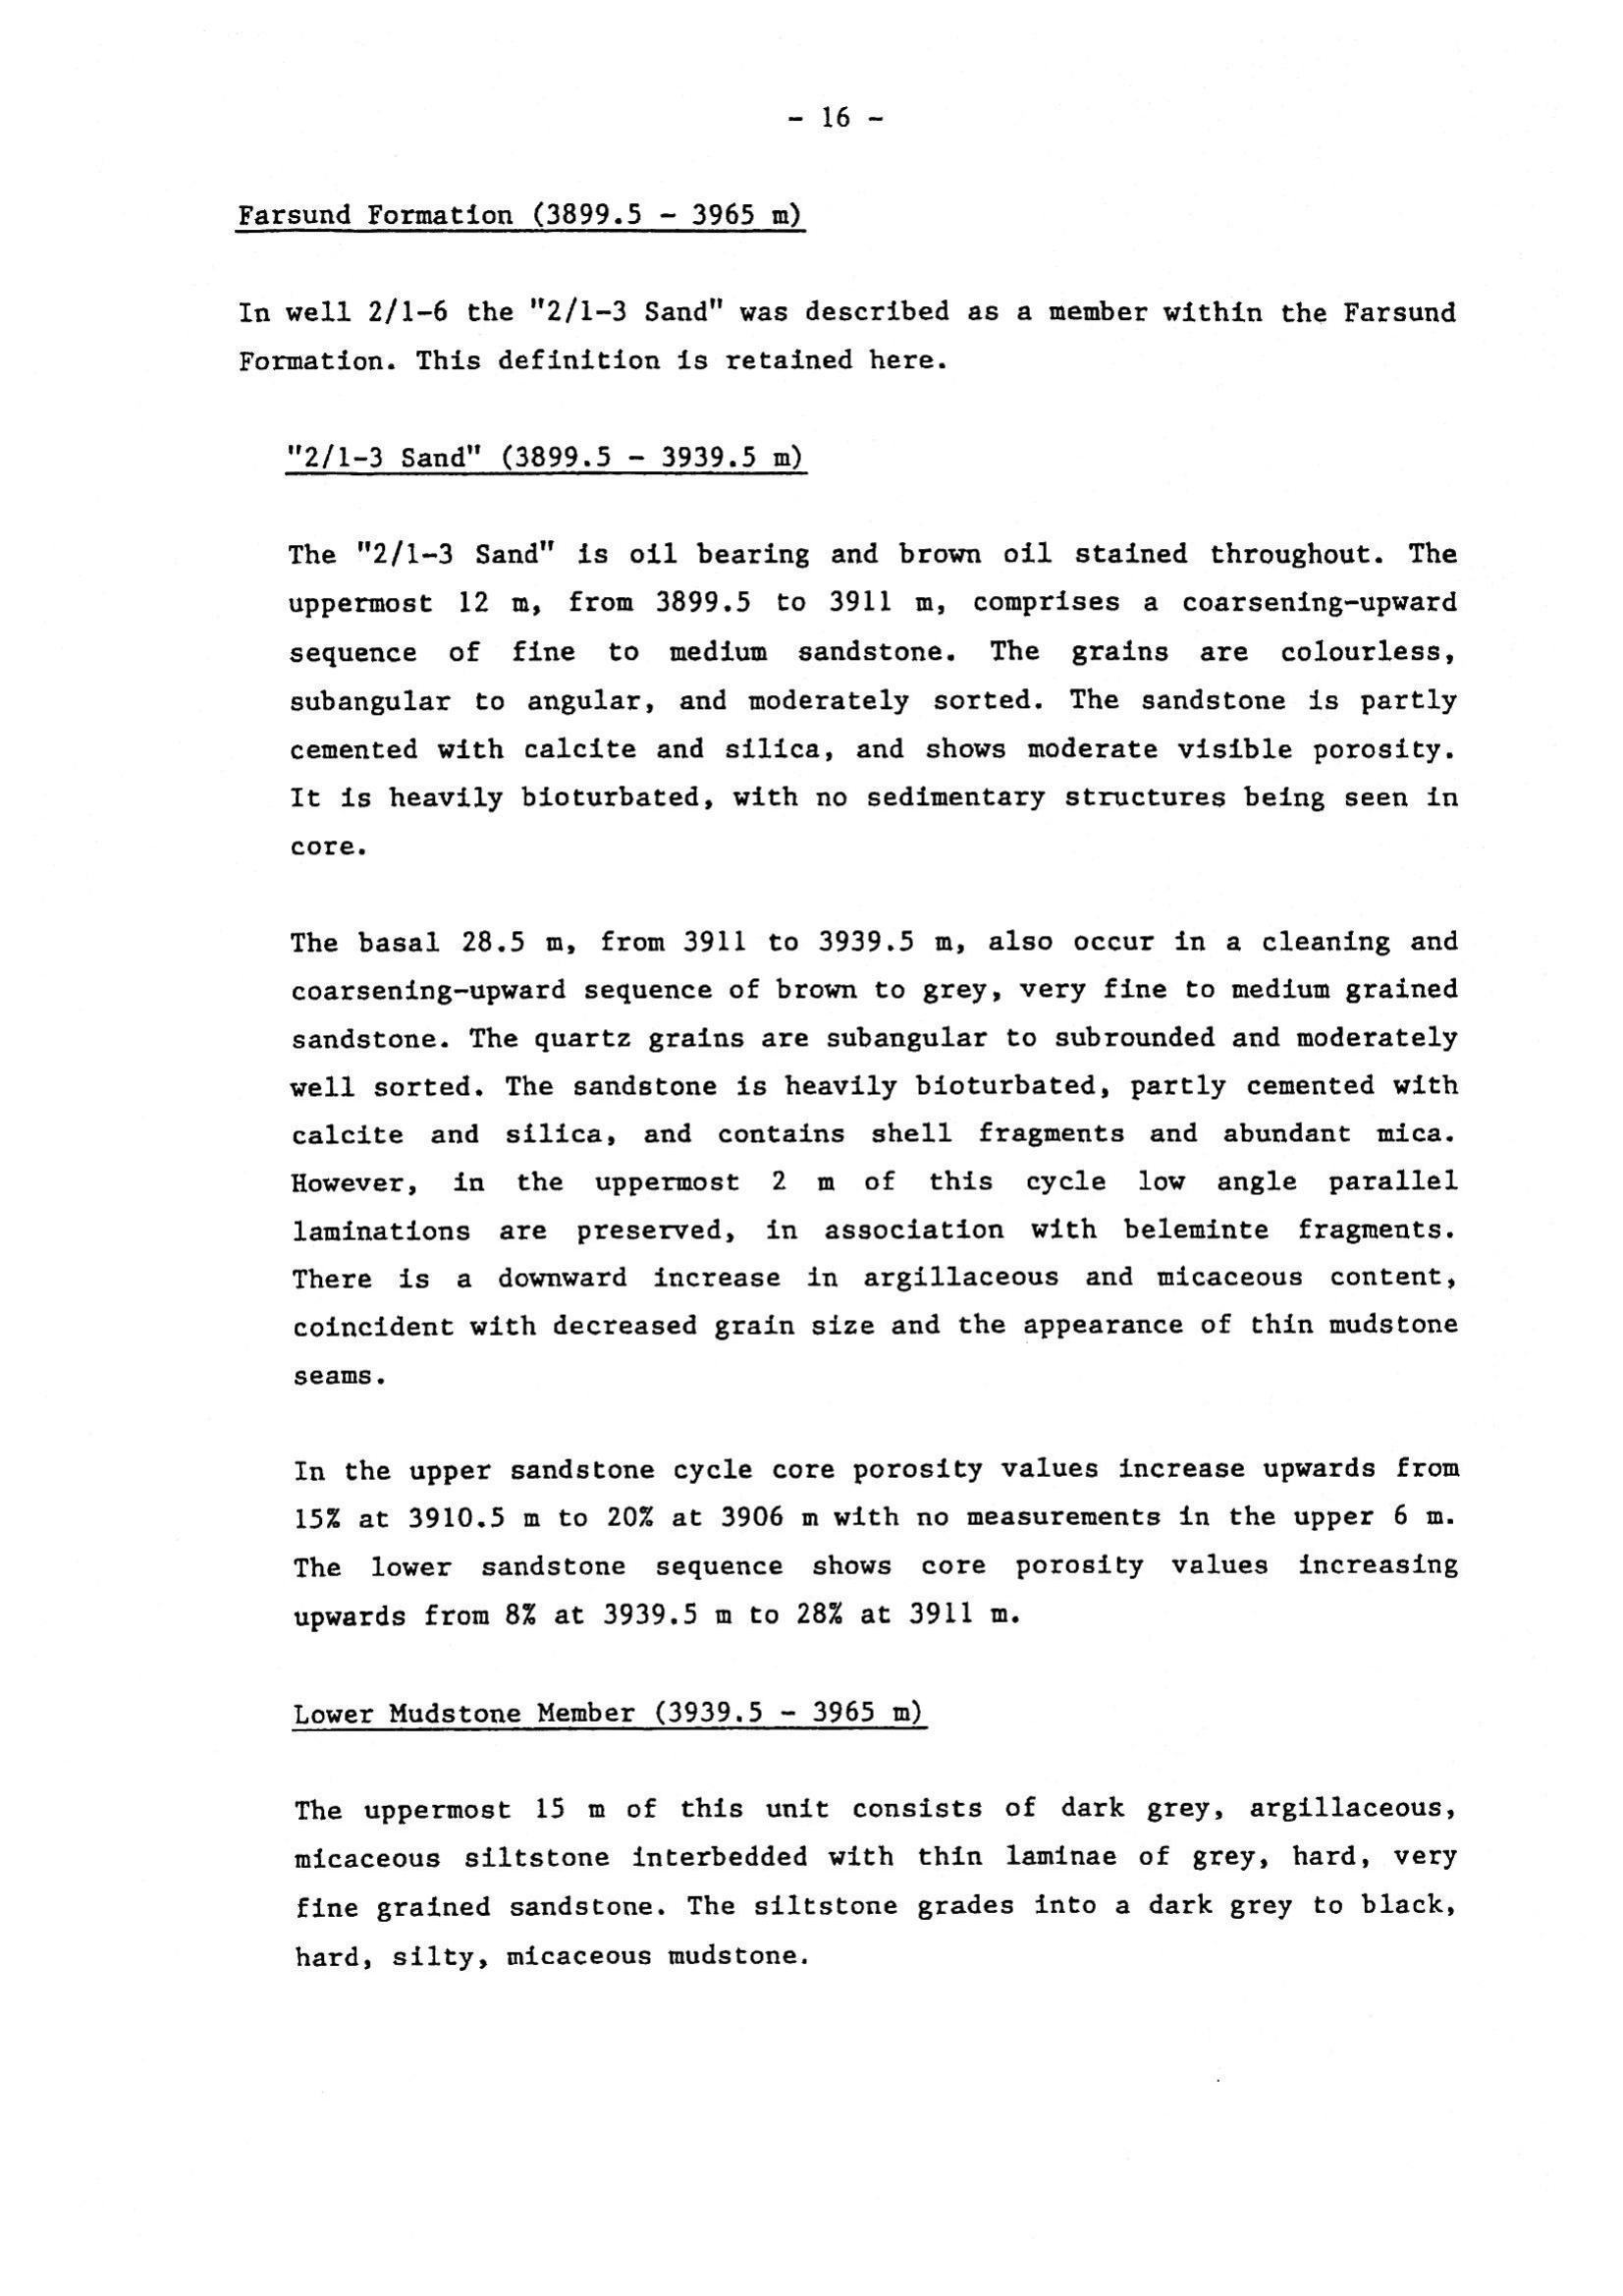text: (218, 176, 1502, 2022)
